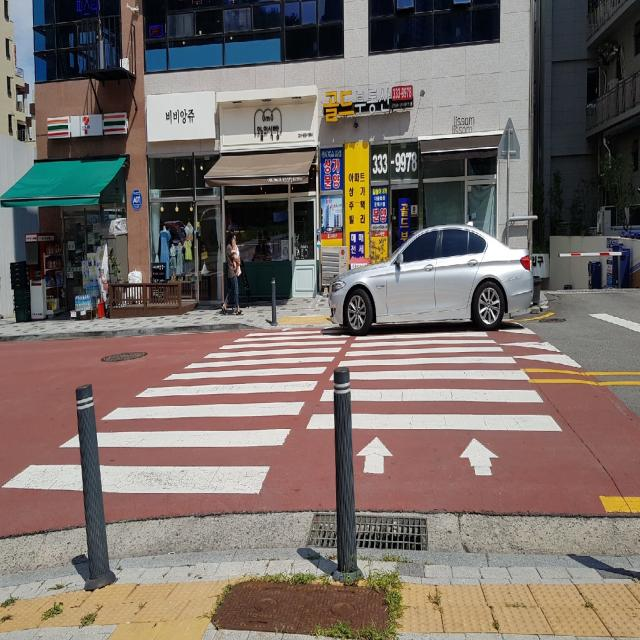횡단보도: (0, 322, 565, 498)
